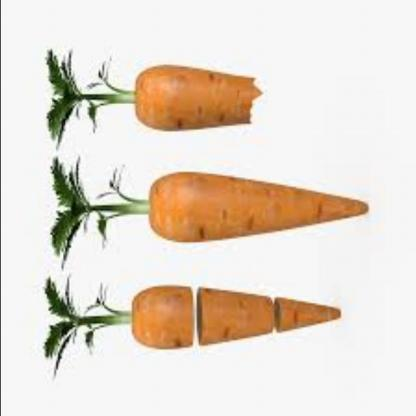carrot: (142, 162, 374, 253), (105, 276, 344, 362), (125, 52, 279, 136)
